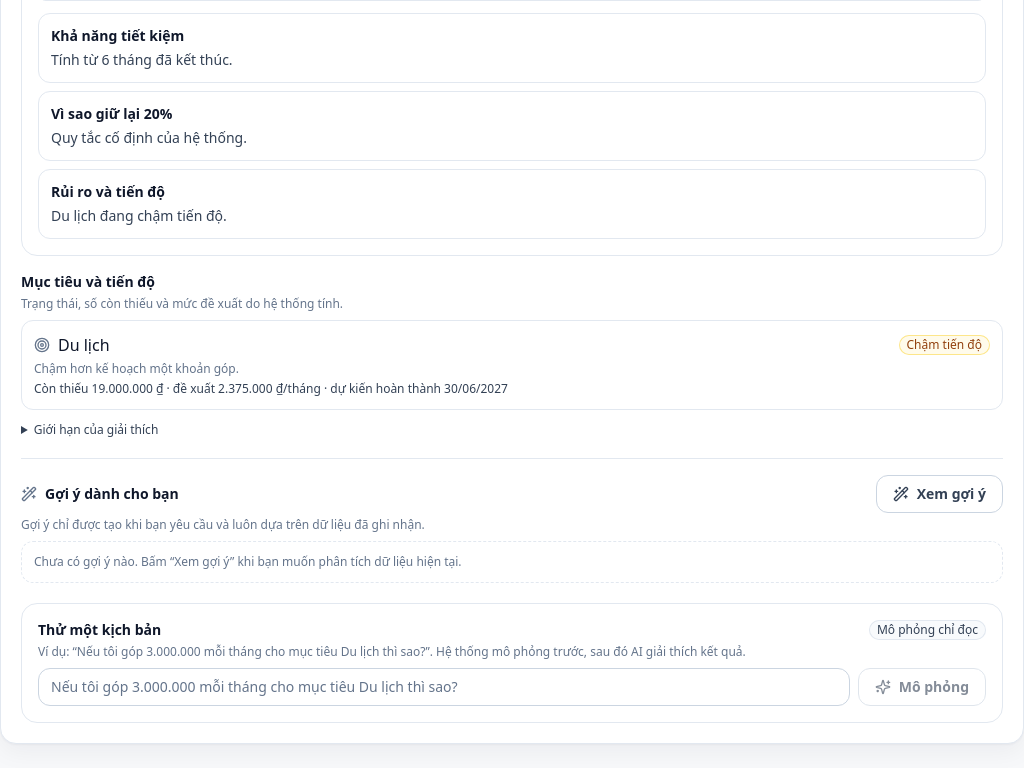
it: SavingsAssistantPanel — scenario › asks for clarification instead of showing a made-up simulation
(page scrolled)
Type "Nếu góp thêm thì sao?" into the field named "Kịch bản muốn mô phỏng" at (444, 687), box top-left (38, 668), bottom-right (850, 706)
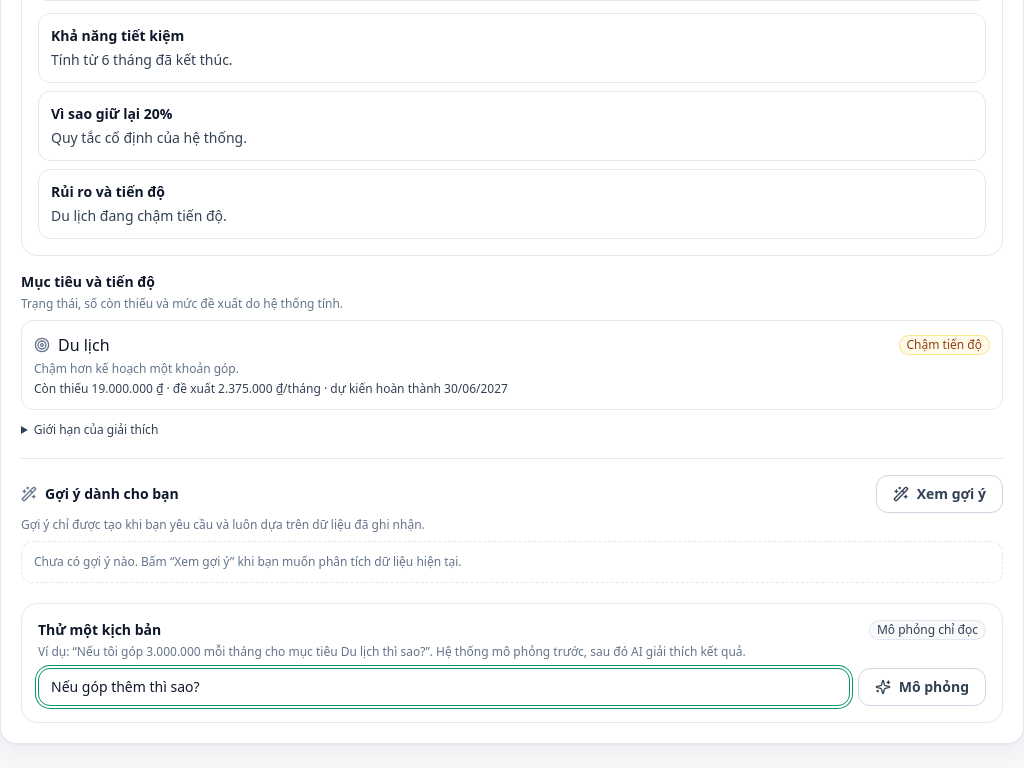
Click the button "Mô phỏng" at (922, 687), box top-left (858, 668), bottom-right (986, 706)
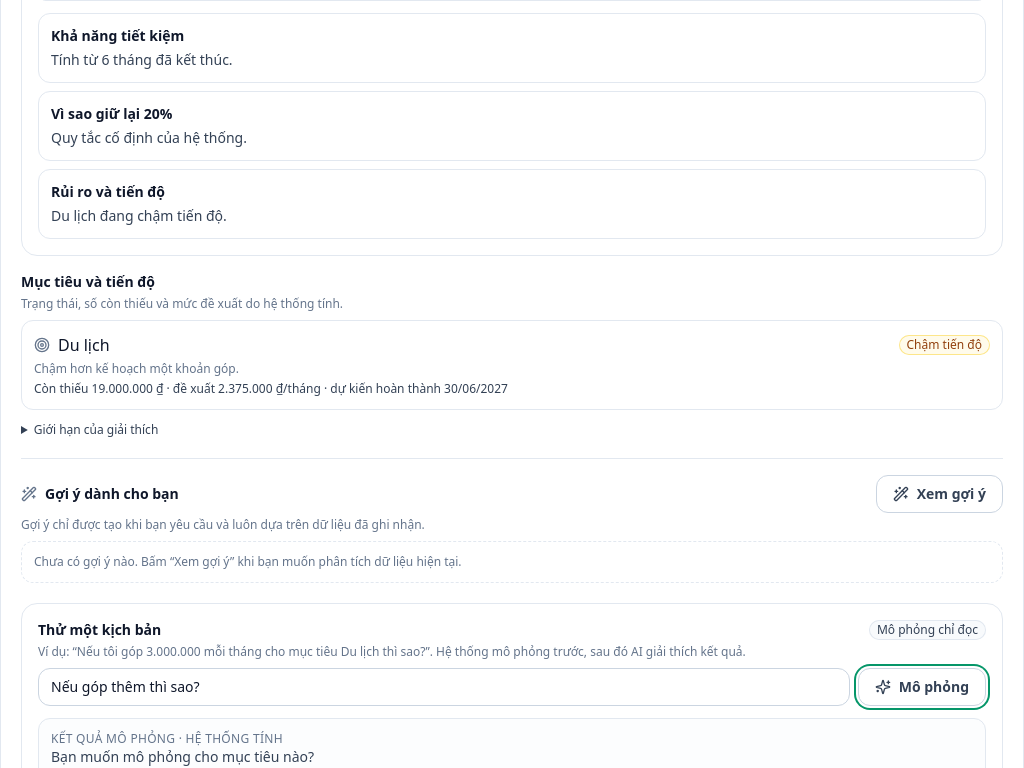
Expected: the text "Bạn muốn mô phỏng cho mục tiêu nào?" is shown, top-left (51, 747), bottom-right (314, 766)
